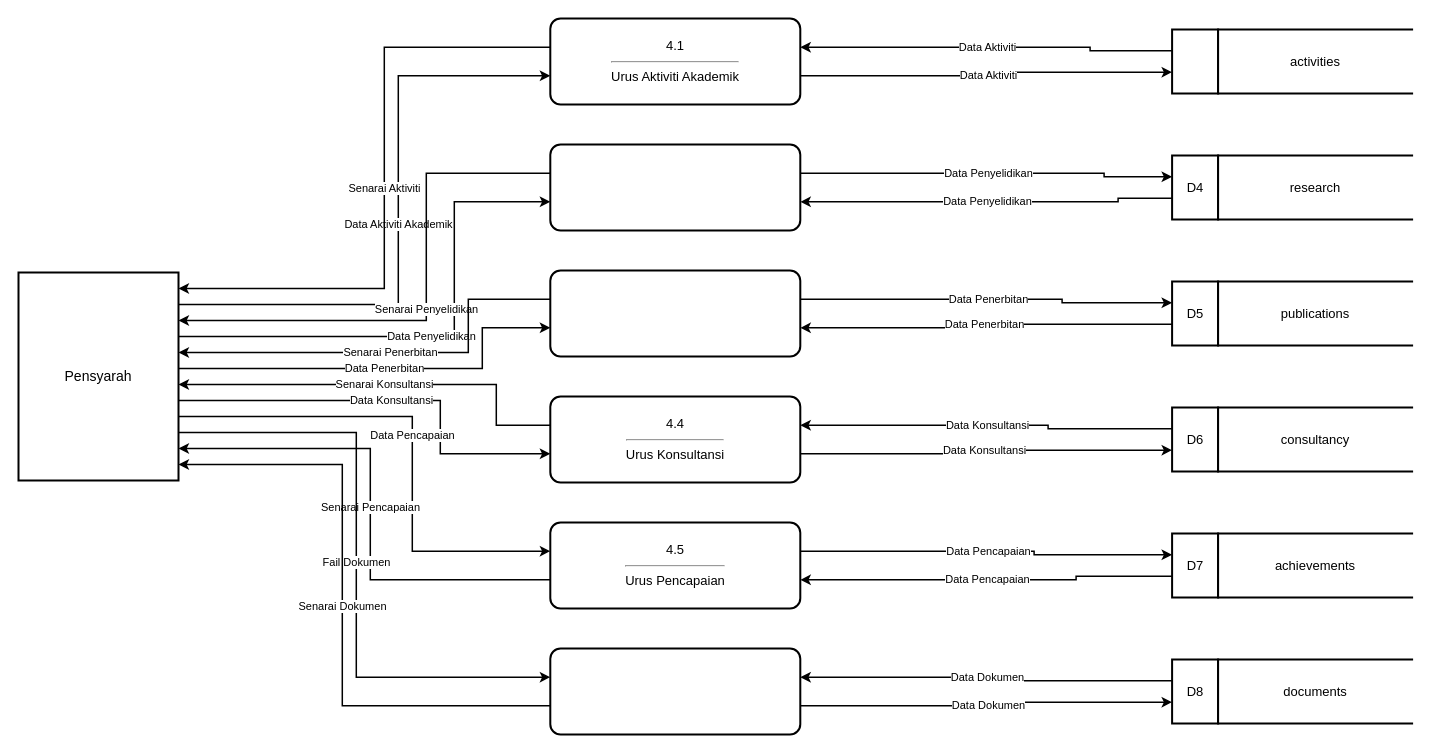
Image size: 1430x752. Some labels were removed from this diagram. Here are the shapes that lost their labels. From the top down, the centre of each, then its label:
At [1195,61]: "D3".
At [675,187]: "4.2 Urus Penyelidikan".
At [675,313]: "4.3 Urus Penerbitan".
At [675,691]: "4.6 Urus Dokumen Sokongan".
